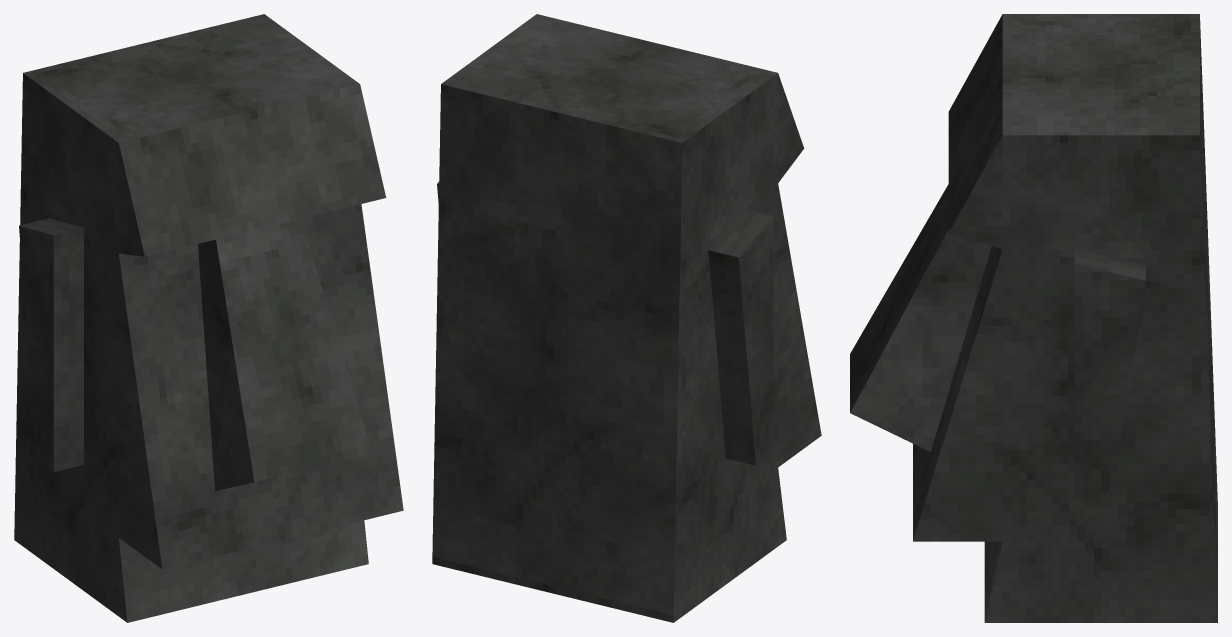
Rendered from moai.dae.
3 renders of one model, left to right at view 1: azimuth 30°, elevation 25°; view 2: azimuth 150°, elevation 25°; view 3: azimuth 270°, elevation 25°, orthographic. The views are drawn at different scales.
Parts seen in each view (by area): view 1: Cube; view 2: Cube; view 3: Cube.
Part boxes in pixels (box(x1,y1,x2,y2)): Cube: box(14, 14, 403, 622); Cube: box(432, 14, 821, 622); Cube: box(850, 14, 1217, 622).
Bounding box in the file's own units: 2 × 2.05 × 3.
